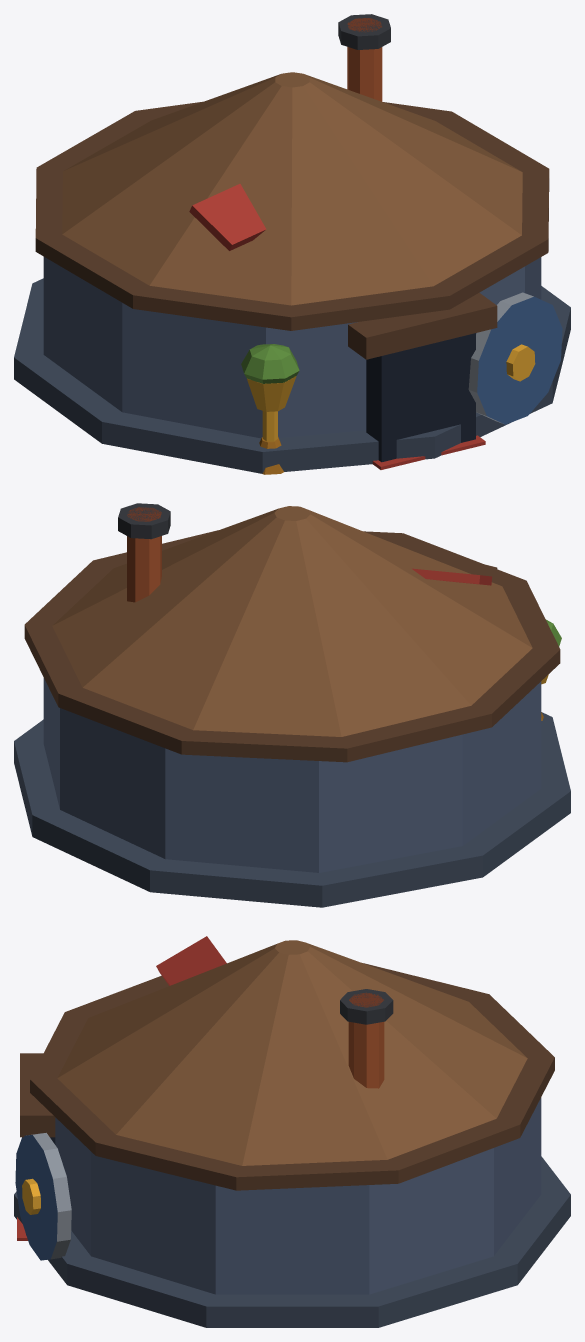
File: bld_den_2x2.glb
The picture shows the model from 3 angles, top to bottom: view 1: azimuth 30°, elevation 25°; view 2: azimuth 150°, elevation 25°; view 3: azimuth 270°, elevation 25°; orthographic projection. The views are drawn at different scales.
Parts seen in each view (by area): view 1: bld_den_2x22; view 2: bld_den_2x22; view 3: bld_den_2x22.
Boxes of the visible parts, box(x1,y1,x2,y2) form: bld_den_2x22: box(14, 14, 570, 474); bld_den_2x22: box(14, 503, 570, 907); bld_den_2x22: box(14, 936, 570, 1327).
Bounding box in the file's own units: 1.79 × 1 × 1.88.
Materials: 1 (1 with a texture image).
